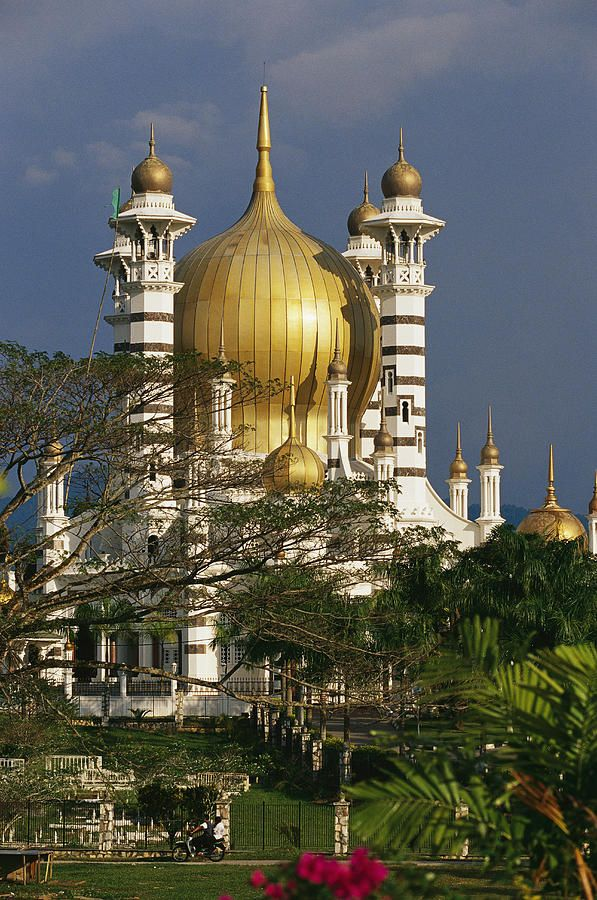Mosque: (42, 85, 593, 701)
